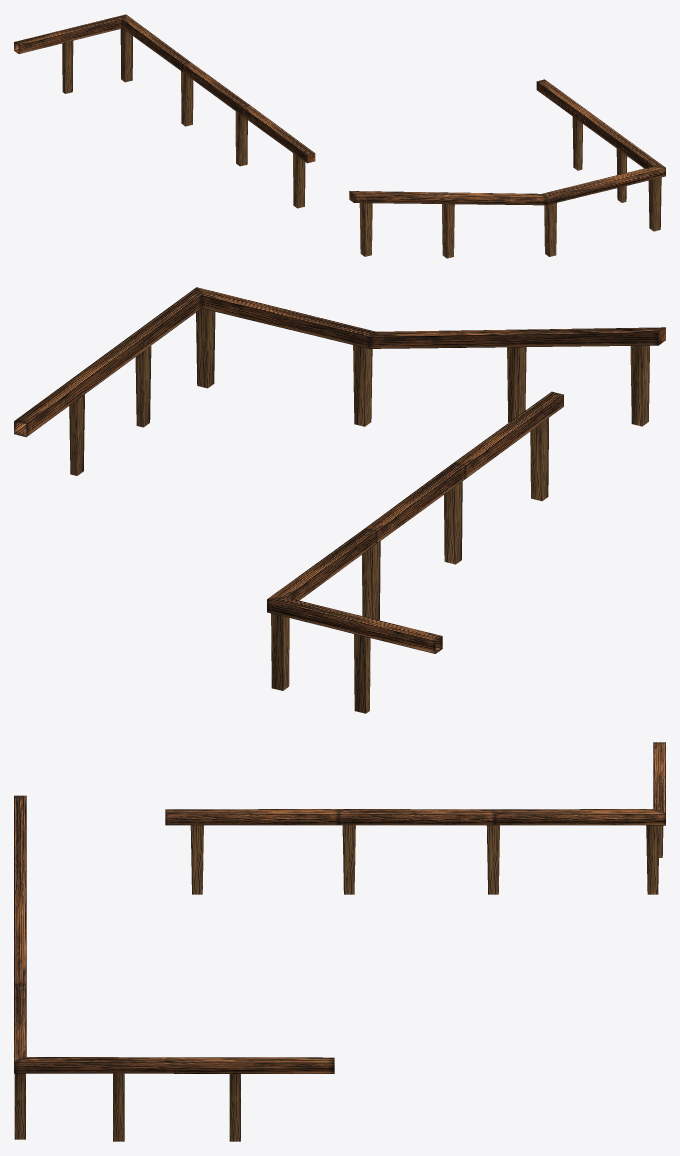
Rendered from LAKETOWN_EXTERIOR_PS_LT_HANDRAILS8847__GX.fbx.
The picture shows the model from 3 angles, top to bottom: view 1: azimuth 30°, elevation 25°; view 2: azimuth 150°, elevation 25°; view 3: azimuth 270°, elevation 25°; orthographic projection. The views are drawn at different scales.
Parts seen in each view (by area): view 1: LAKETOWN_EXTERIOR_PS_LT_HANDRAILS8847__GX; view 2: LAKETOWN_EXTERIOR_PS_LT_HANDRAILS8847__GX; view 3: LAKETOWN_EXTERIOR_PS_LT_HANDRAILS8847__GX.
Boxes of the visible parts, box(x1,y1,x2,y2) form: LAKETOWN_EXTERIOR_PS_LT_HANDRAILS8847__GX: box(14, 14, 665, 258); LAKETOWN_EXTERIOR_PS_LT_HANDRAILS8847__GX: box(14, 287, 665, 713); LAKETOWN_EXTERIOR_PS_LT_HANDRAILS8847__GX: box(14, 742, 665, 1141).
Bounding box in the file's own units: 67900 × 17682 × 71521.
3 materials, 3 textured.
